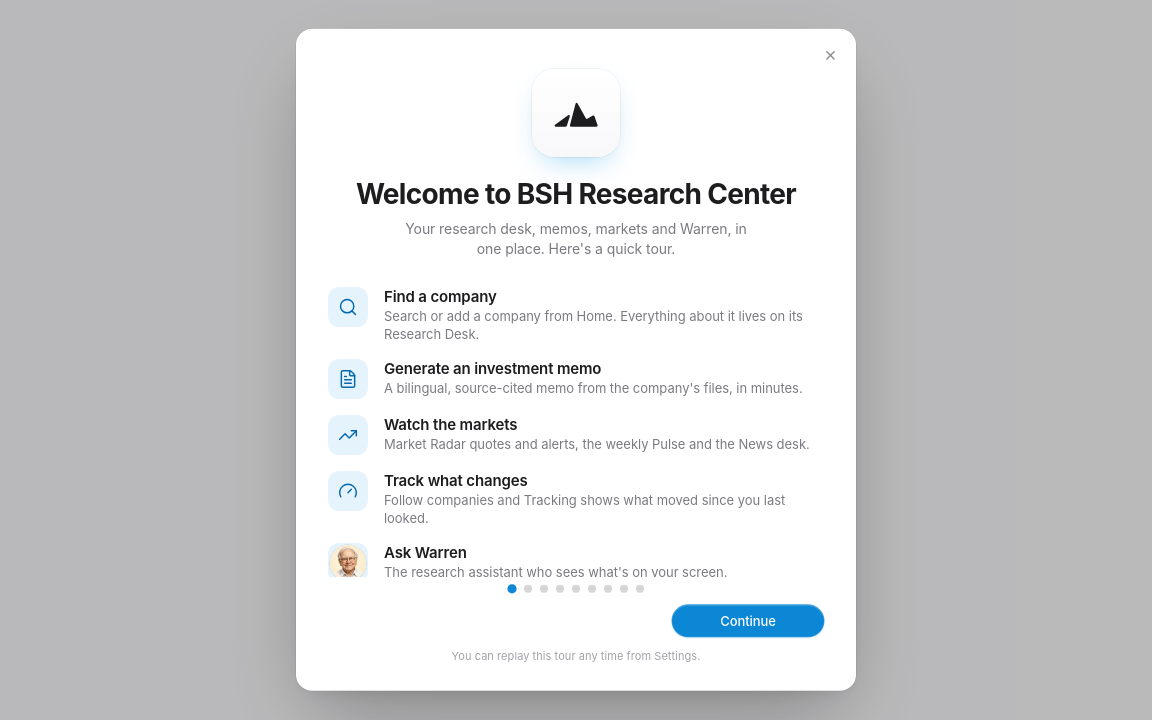
Test: WelcomeTour look step › offers Summit Glass, Bureau and Folio, with Summit Glass the default and current
What coordinates should you click on to do the following:
click the 8th tab with class "welcome-tour-dot"
I would click on:
 (624, 589)
Its box is [620,585,628,593].
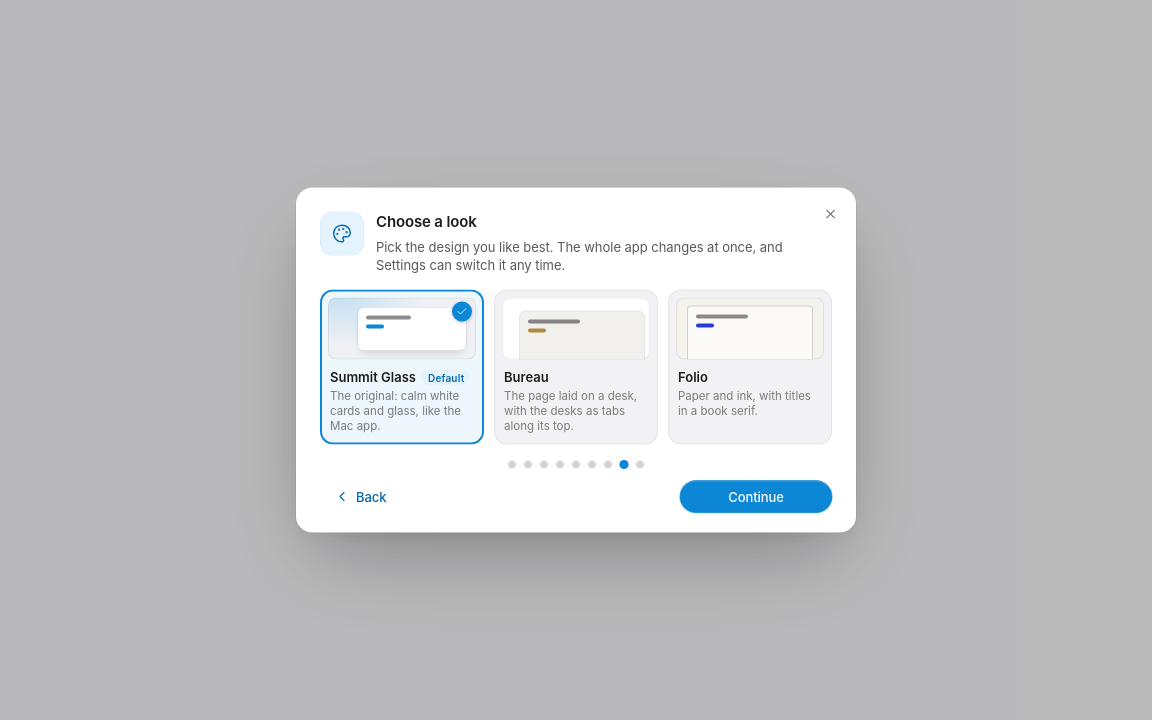
Now the heading with test id "welcome-tour-title" reads "Choose a look", box [376,212,477,230]
Now the radio button that starts with "Summit Glass" is checked, box [320,290,484,444]
Now the text with class "look-card-default" reads "Default", box [428,371,464,383]
